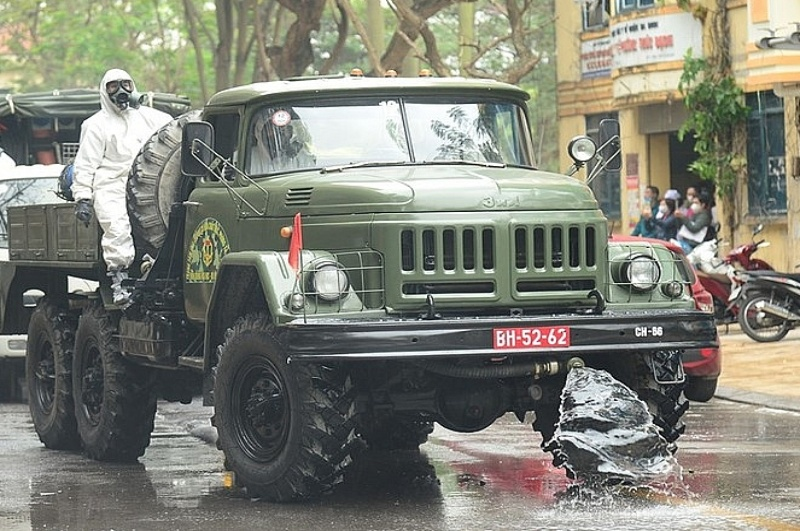plate: (492, 324, 573, 350)
